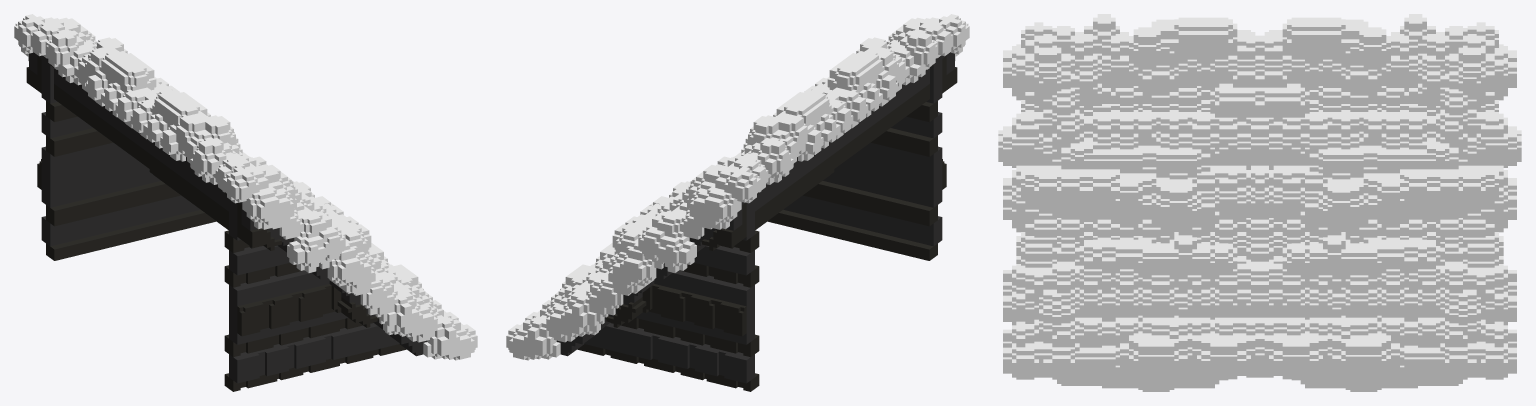
Rendered from RoofHalfFilledSnowedStone.obj.
3 renders of one model, left to right at view 1: azimuth 30°, elevation 25°; view 2: azimuth 150°, elevation 25°; view 3: azimuth 270°, elevation 25°, orthographic. The views are drawn at different scales.
Bounding box in the file's own units: 6.5 × 6.5 × 11.6.
Materials: 1 (1 with a texture image).
